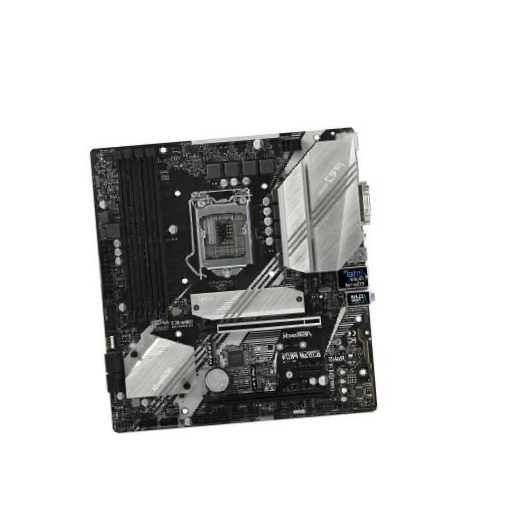CPU: (188, 181, 255, 277)
GPU: (205, 390, 339, 411), (216, 314, 320, 335)
MOTHERBOARD: (90, 126, 377, 432)
RAM: (117, 148, 176, 327)
SSD: (205, 342, 220, 365), (251, 365, 259, 386)
